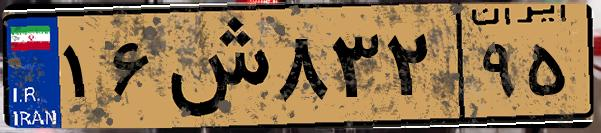1: (57, 26, 110, 100)
2: (385, 28, 445, 110)
3: (330, 28, 385, 110)
5: (525, 38, 570, 115)
6: (110, 28, 158, 98)
8: (270, 28, 330, 110)
9: (475, 38, 525, 113)
ش: (158, 12, 270, 120)
